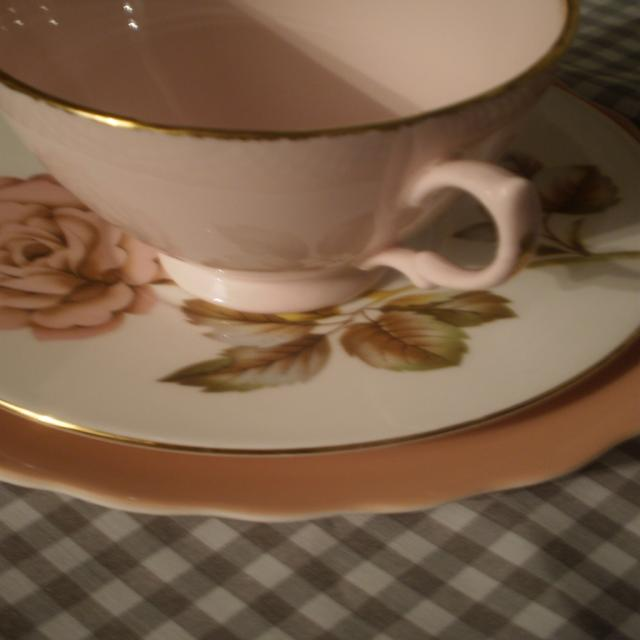non-organic waste: (0, 78, 617, 501)
